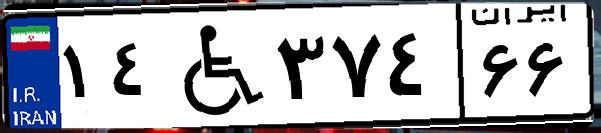1: (57, 26, 110, 100)
3: (270, 28, 330, 110)
4: (385, 28, 445, 110), (110, 28, 158, 98)
6: (475, 38, 525, 113), (525, 38, 570, 115)
7: (330, 28, 385, 110)
ژ (معلولین و جانبازان): (158, 12, 270, 120)
